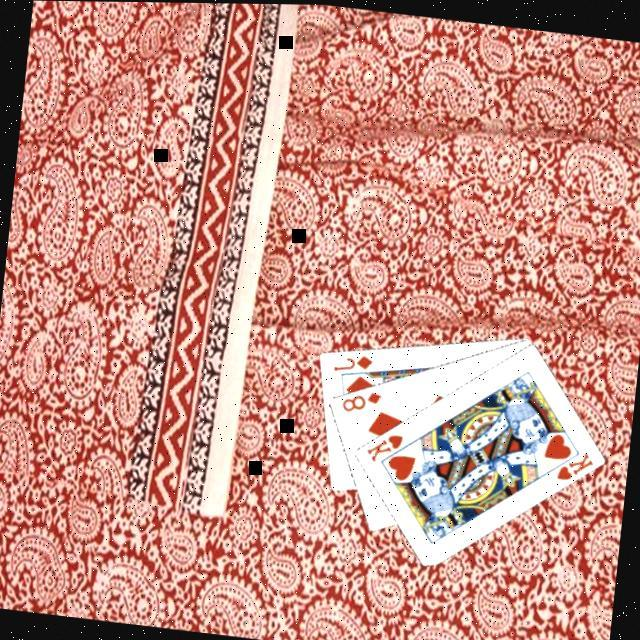8D: (339, 381, 386, 415)
JD: (331, 345, 377, 376)
KH: (362, 424, 408, 465), (554, 441, 598, 482)
